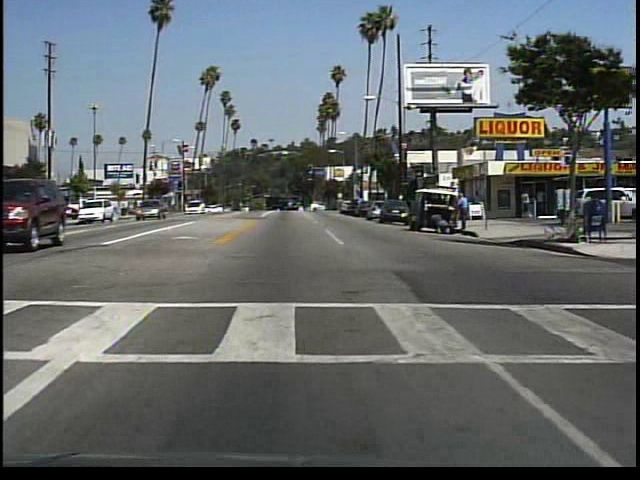person: (4, 193, 33, 225), (454, 189, 474, 235), (518, 187, 532, 224), (430, 213, 449, 236), (536, 187, 547, 218)
